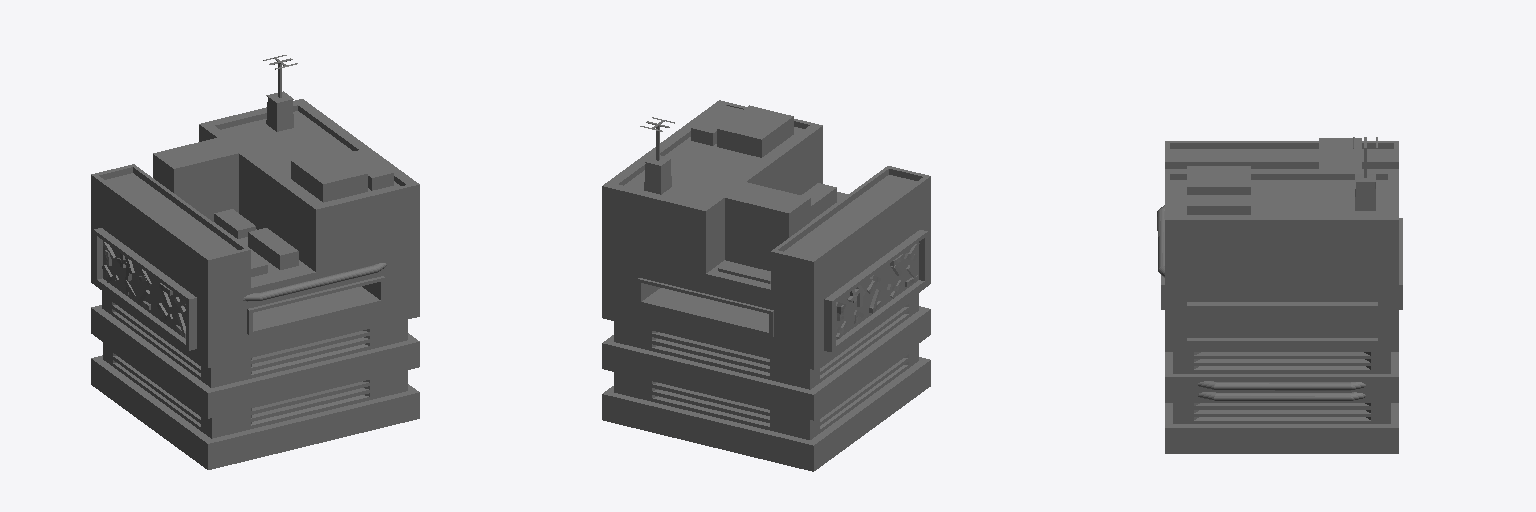
The model's file is UpdatedRoof1.obj.
The picture shows the model from 3 angles: view 1: azimuth 30°, elevation 25°; view 2: azimuth 150°, elevation 25°; view 3: azimuth 270°, elevation 25°; orthographic projection.
Visible parts, largest first — view 1: polySurface491.001; view 2: polySurface491.001; view 3: polySurface491.001.
Part boxes in pixels (left/top/right/bottom): polySurface491.001: left=91, top=55, right=419, bottom=469; polySurface491.001: left=602, top=100, right=930, bottom=471; polySurface491.001: left=1157, top=137, right=1402, bottom=453.
Size of the model in its own units: 1.17 by 1.44 by 1.1.